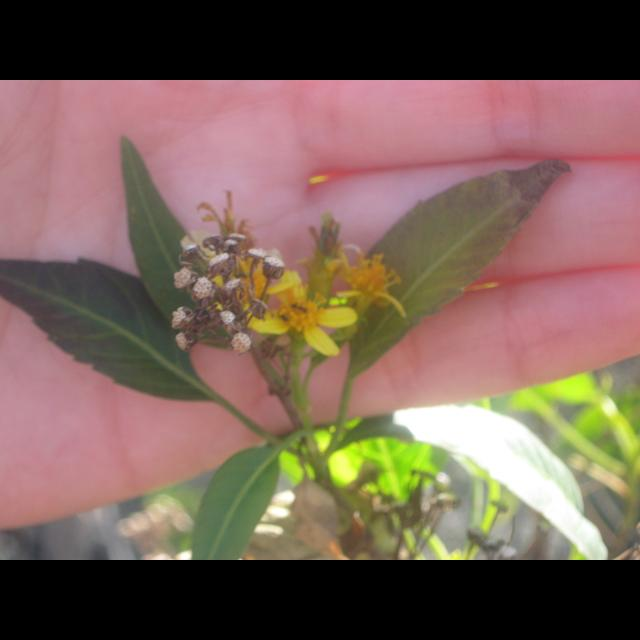Flower: (258, 282, 356, 354), (340, 256, 406, 336)
